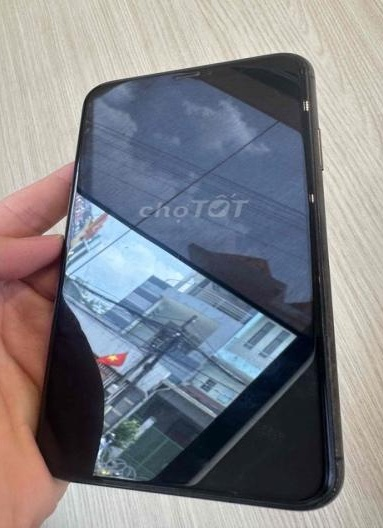scratch: (308, 186, 321, 209), (301, 101, 314, 117)
